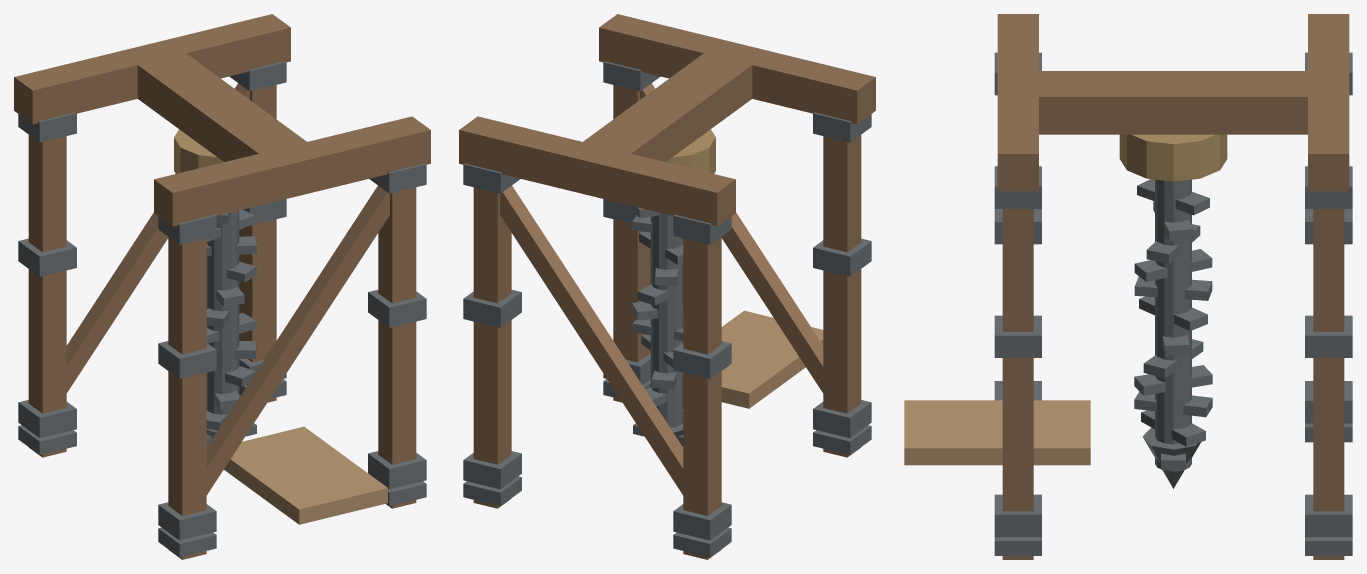
The model's file is vf_finite_mining_head.glb.
The picture shows the model from 3 angles, left to right: view 1: azimuth 30°, elevation 25°; view 2: azimuth 150°, elevation 25°; view 3: azimuth 270°, elevation 25°; orthographic projection. The views are drawn at different scales.
Visible parts, largest first — view 1: Static_Oak, Static_Iron, Static_OakLight, Drill_Iron, Static_Bronze; view 2: Static_Oak, Static_Iron, Drill_Iron, Static_OakLight, Static_Bronze; view 3: Static_Oak, Drill_Iron, Static_Iron, Static_OakLight, Static_Bronze.
Part boxes in pixels (x1,y1,x2,y2): Static_Oak: (14,14,430,559); Static_Iron: (18,61,426,557); Static_OakLight: (224,426,387,524); Drill_Iron: (206,209,256,446); Static_Bronze: (174,129,223,173); Static_Oak: (459,14,875,559); Static_Iron: (463,61,871,557); Drill_Iron: (632,206,683,446); Static_OakLight: (721,310,823,408); Static_Bronze: (666,129,715,173); Static_Oak: (997,14,1349,559); Drill_Iron: (1134,179,1212,488); Static_Iron: (994,52,1352,555); Static_OakLight: (904,400,1090,465); Static_Bronze: (1119,134,1227,181).
Bounding box in the file's own units: 1.6 × 2.2 × 2.16.
